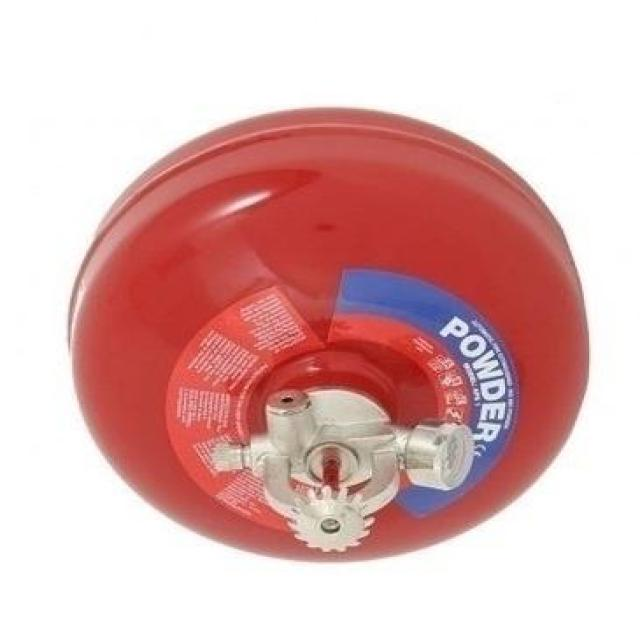fire_extinguisher: (54, 98, 593, 568)
